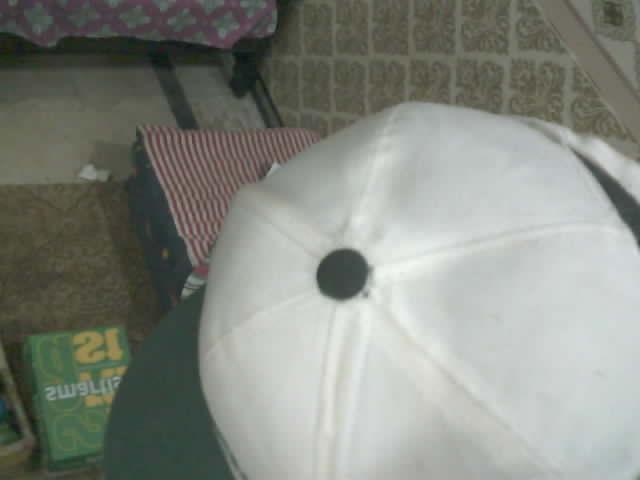cap: (102, 102, 639, 479)
